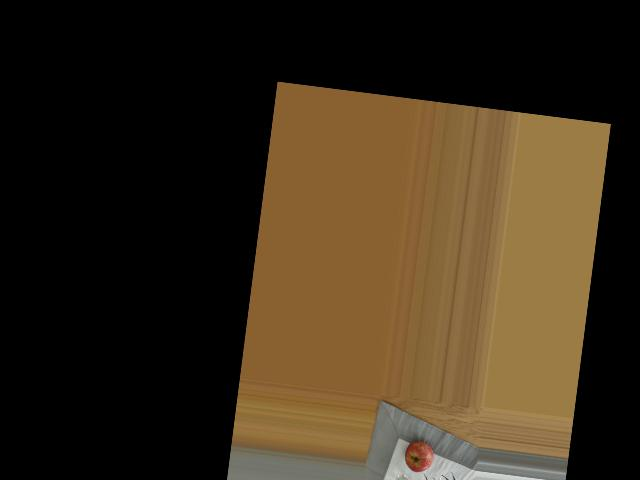apple: (399, 435, 436, 475)
